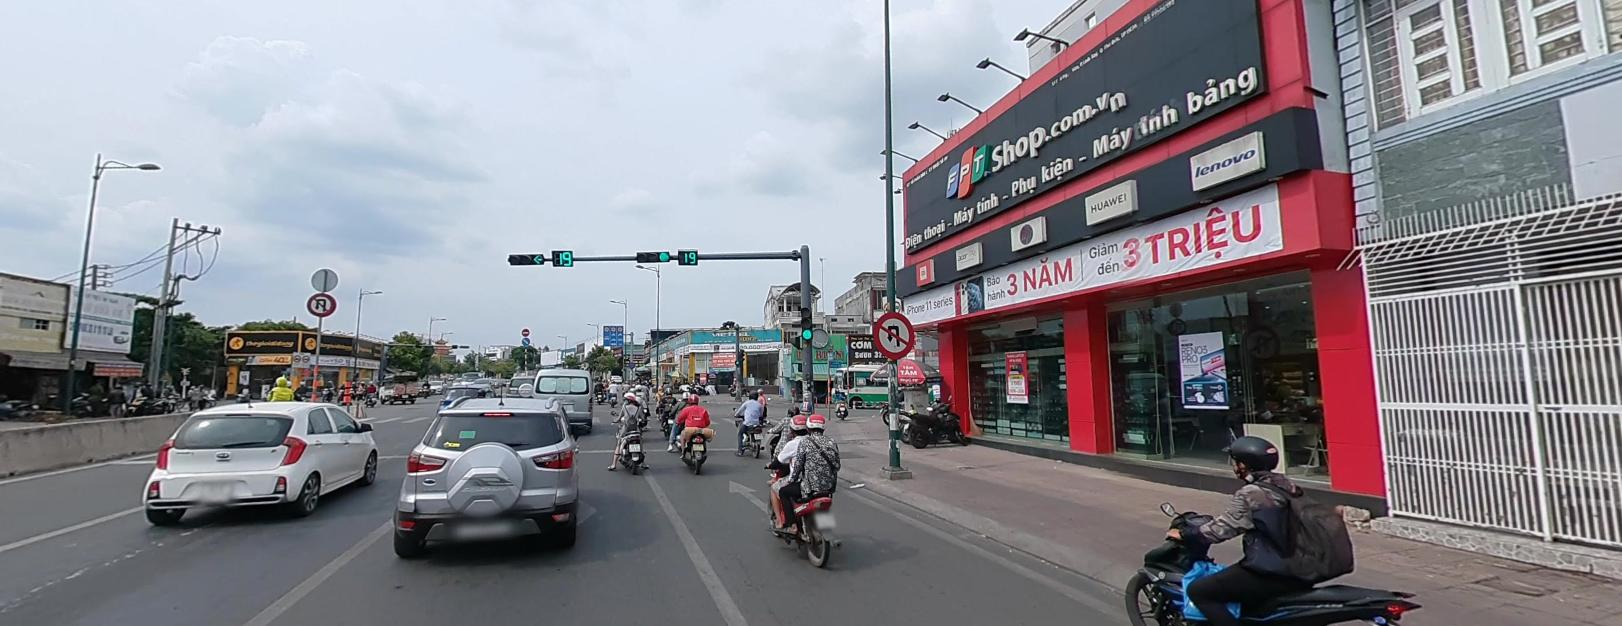Cam nguoc chieu: (521, 326, 529, 334)
Cam re: (867, 307, 917, 359), (303, 290, 337, 316)
Hieu lenh: (520, 336, 530, 342)
